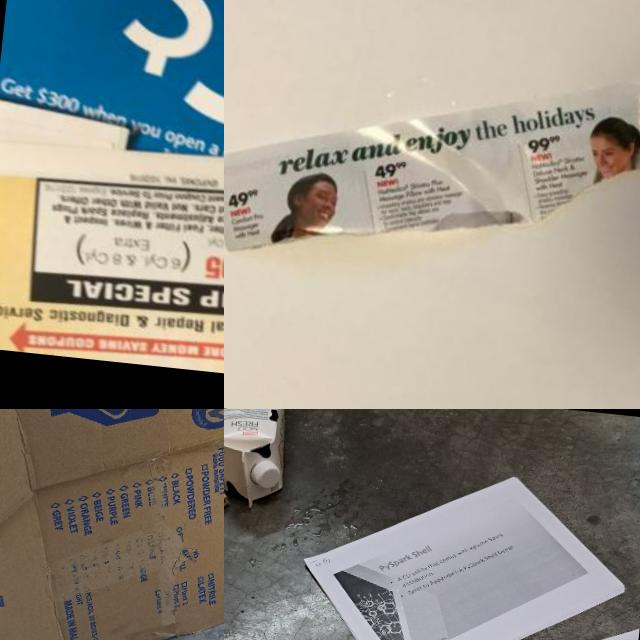caixinha: (224, 409, 294, 509)
papel: (224, 27, 640, 297), (0, 0, 224, 409), (296, 454, 637, 640)
papelão: (0, 409, 224, 640)
tampa plástica: (252, 454, 284, 494)
